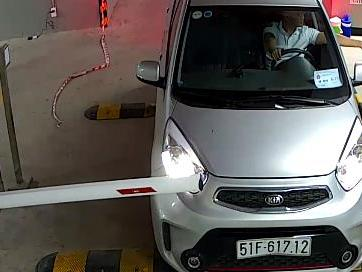car: (236, 237, 313, 259)
